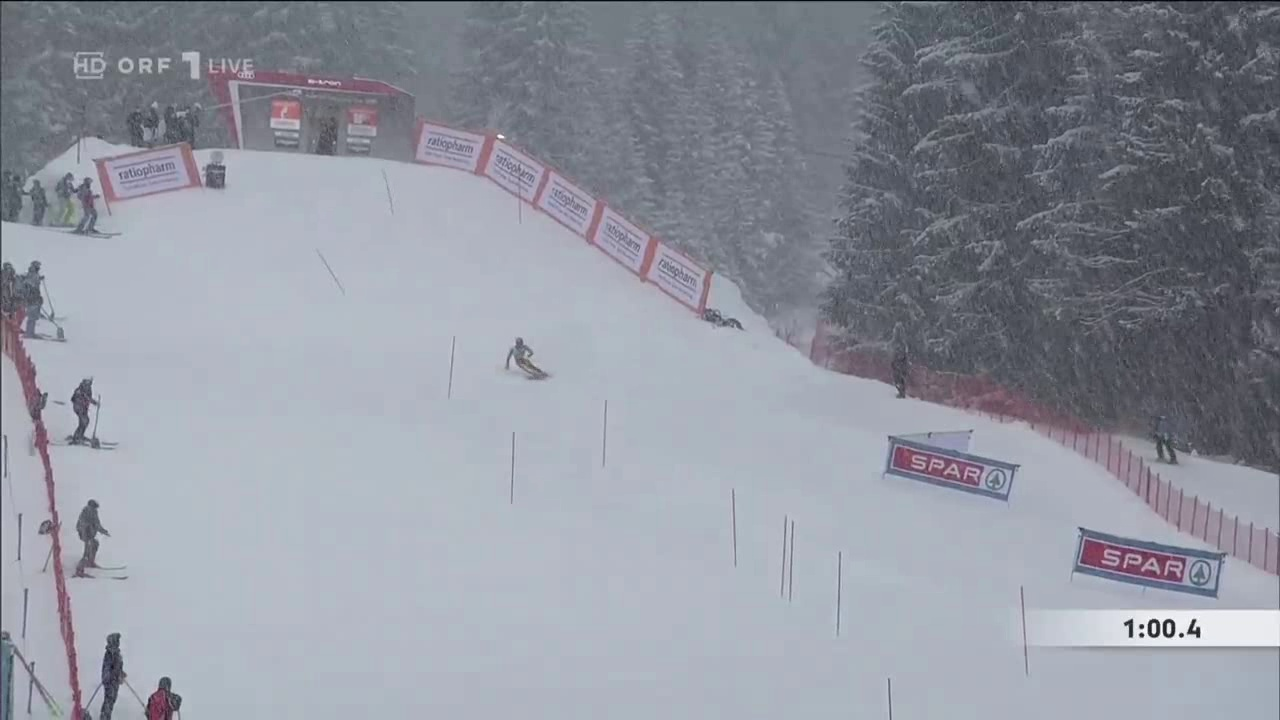etron: (306, 80, 345, 90)
ratiopharm: (106, 155, 187, 196), (489, 148, 544, 197), (539, 182, 596, 229), (418, 130, 486, 169), (596, 216, 650, 265), (650, 250, 705, 298)
spar: (1087, 541, 1213, 594), (893, 446, 1013, 496)
